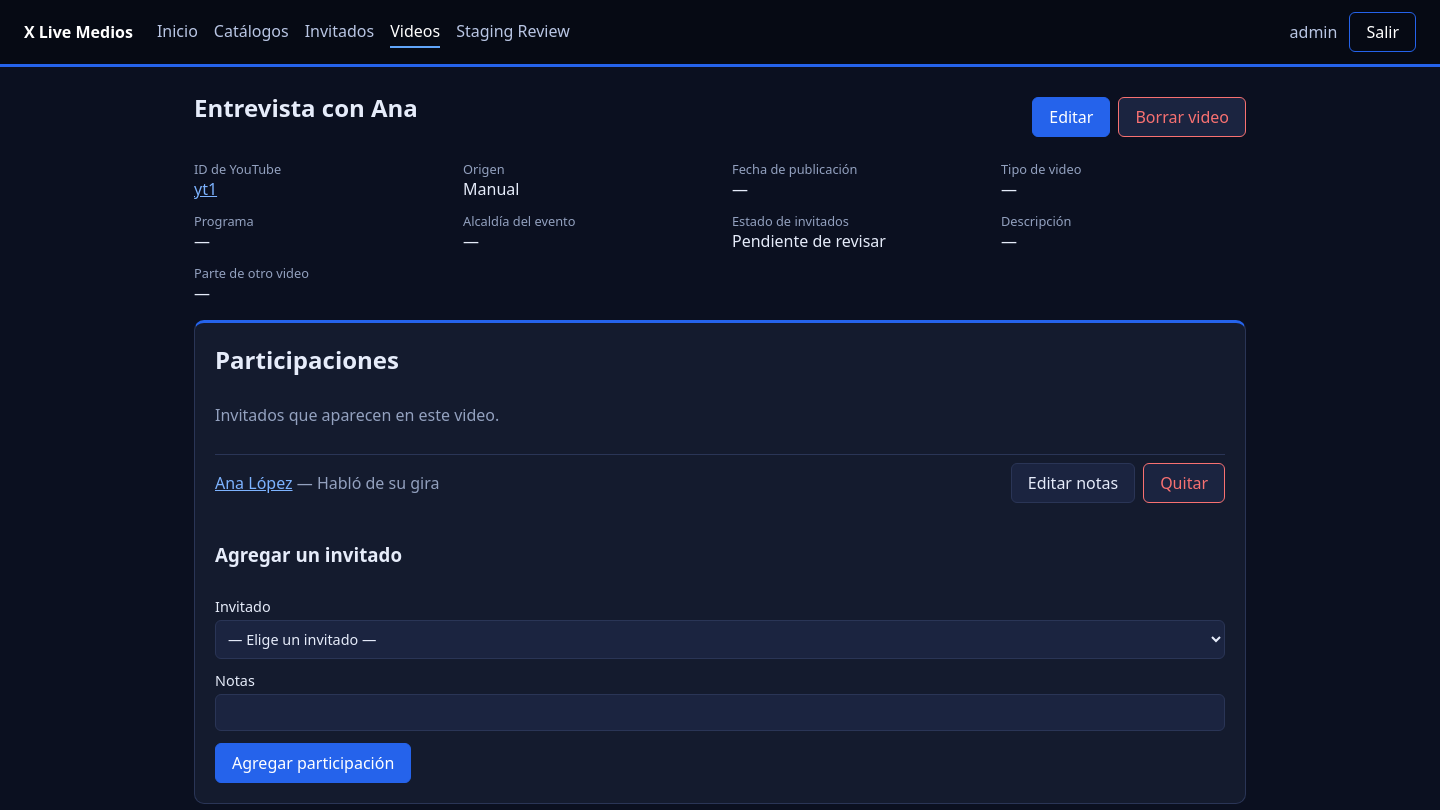
Test: Participaciones desde el video › quitar pide confirmación; cancelar no borra y aceptar envía confirm=true sin borrar invitado ni video
Click the button with aria-label "Quitar Ana López".
click(1184, 483)  # box [1143, 463, 1225, 503]
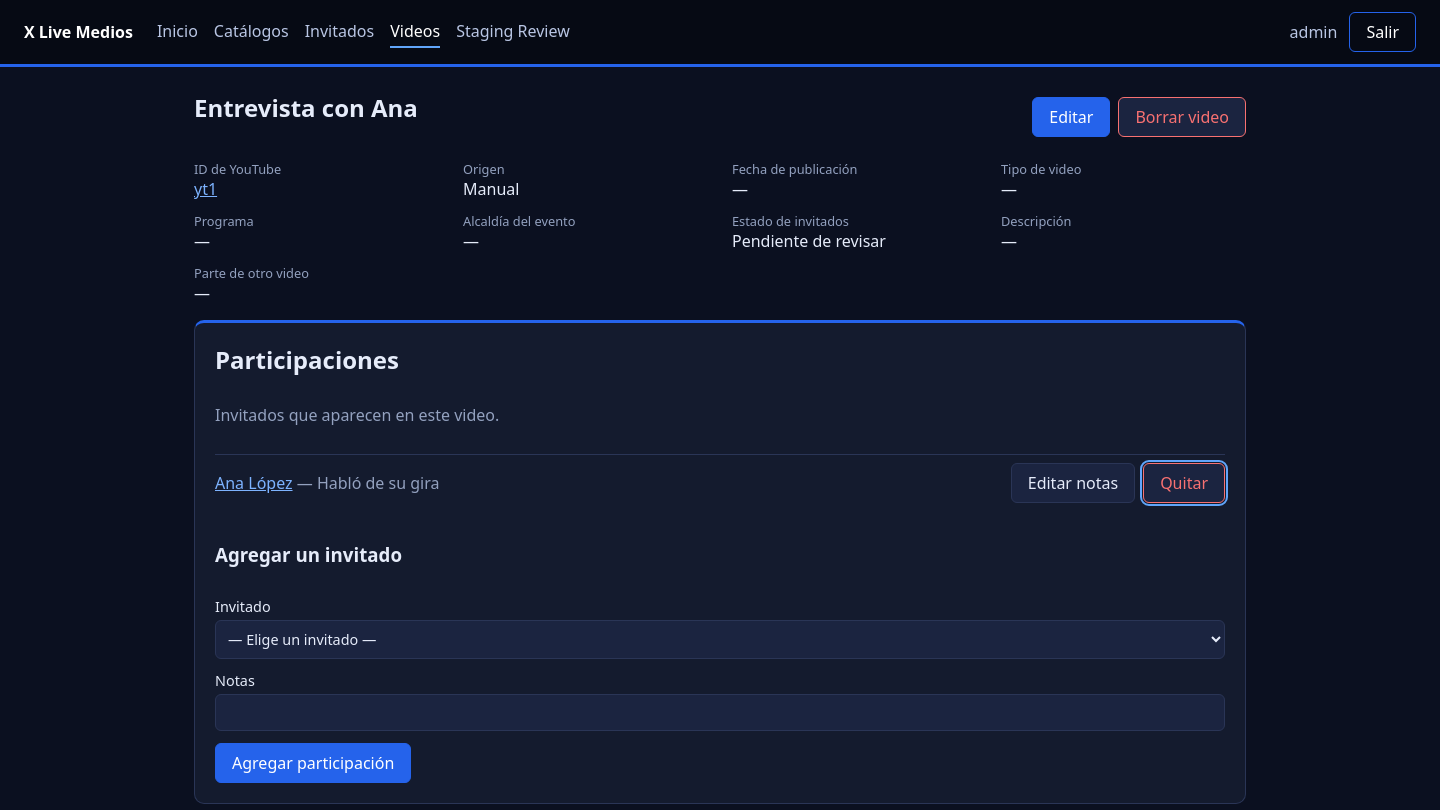
Click the button with aria-label "Quitar Ana López".
click(1184, 483)  # box [1143, 463, 1225, 503]
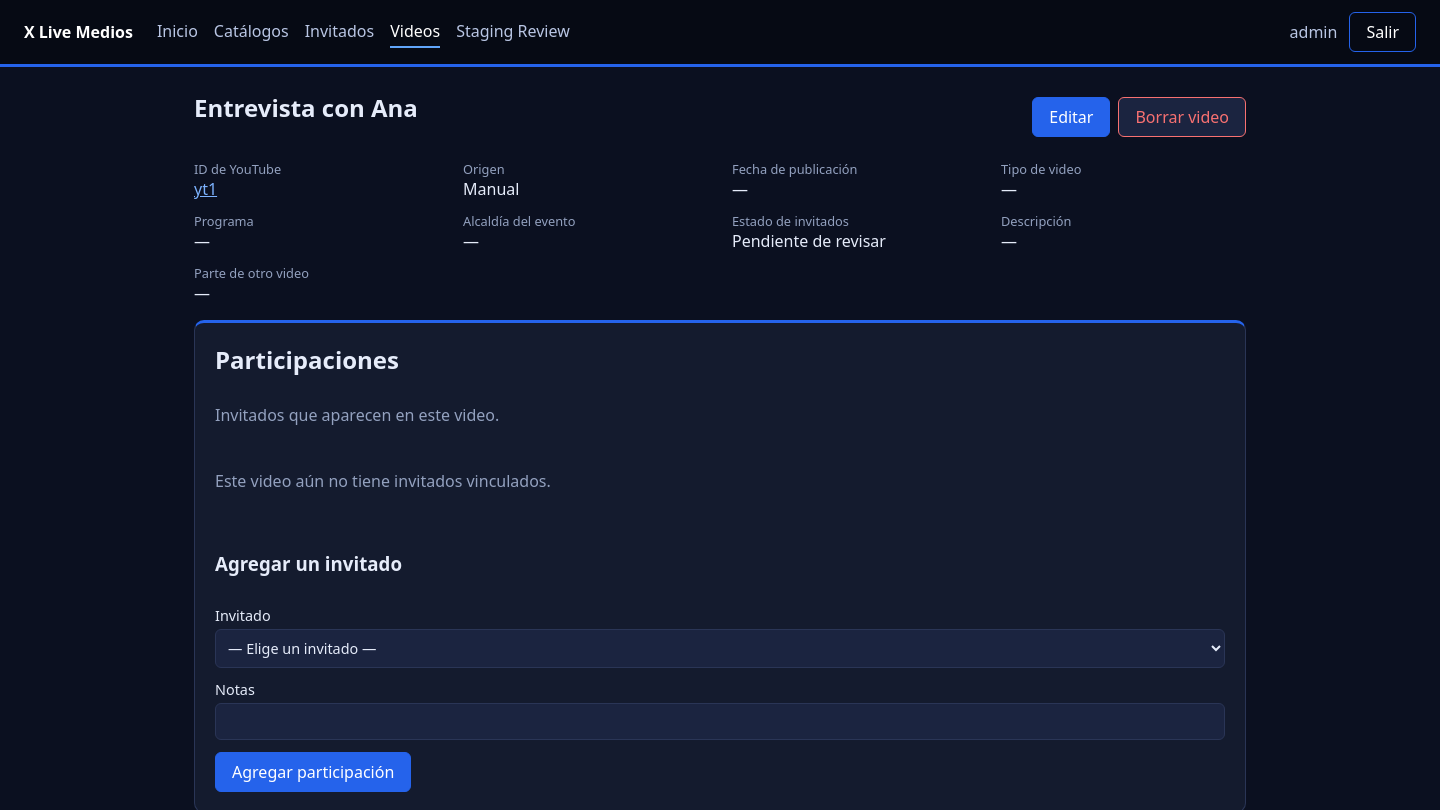
Check: the text "Este video aún no tiene invitados vinculados." is shown, box [215, 470, 551, 492]
